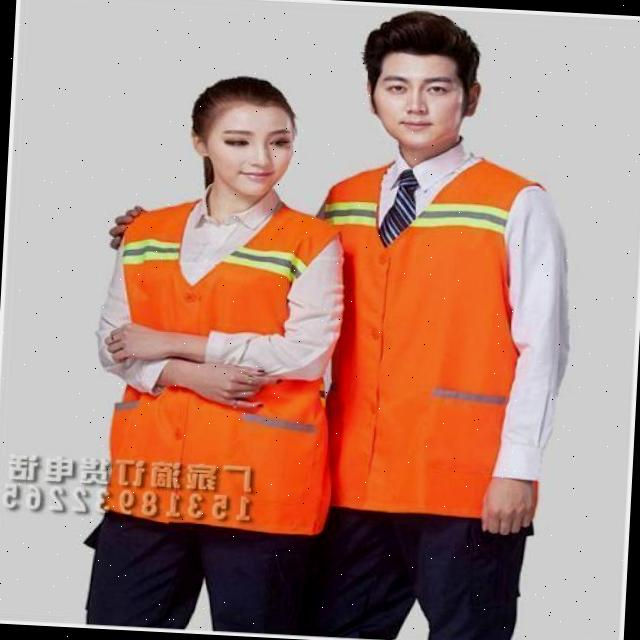vest: (314, 180, 530, 498), (109, 218, 328, 524)
